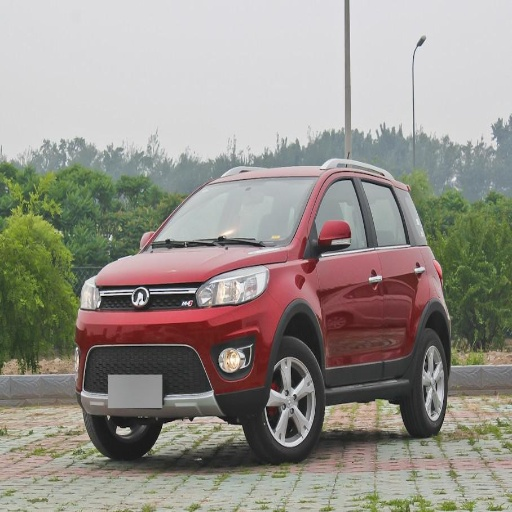front_bumper: (75, 282, 281, 419)
front_glass: (148, 181, 314, 246)
front_left_door: (304, 170, 383, 386)
